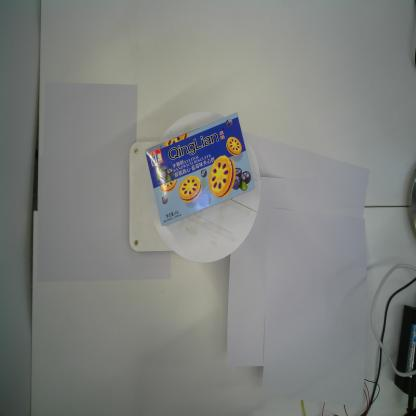Dessert: (144, 110, 256, 227)
